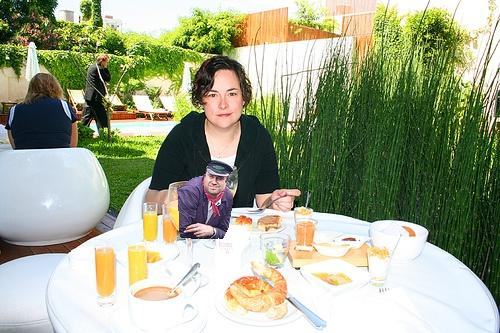tampered: (178, 160, 233, 239)
